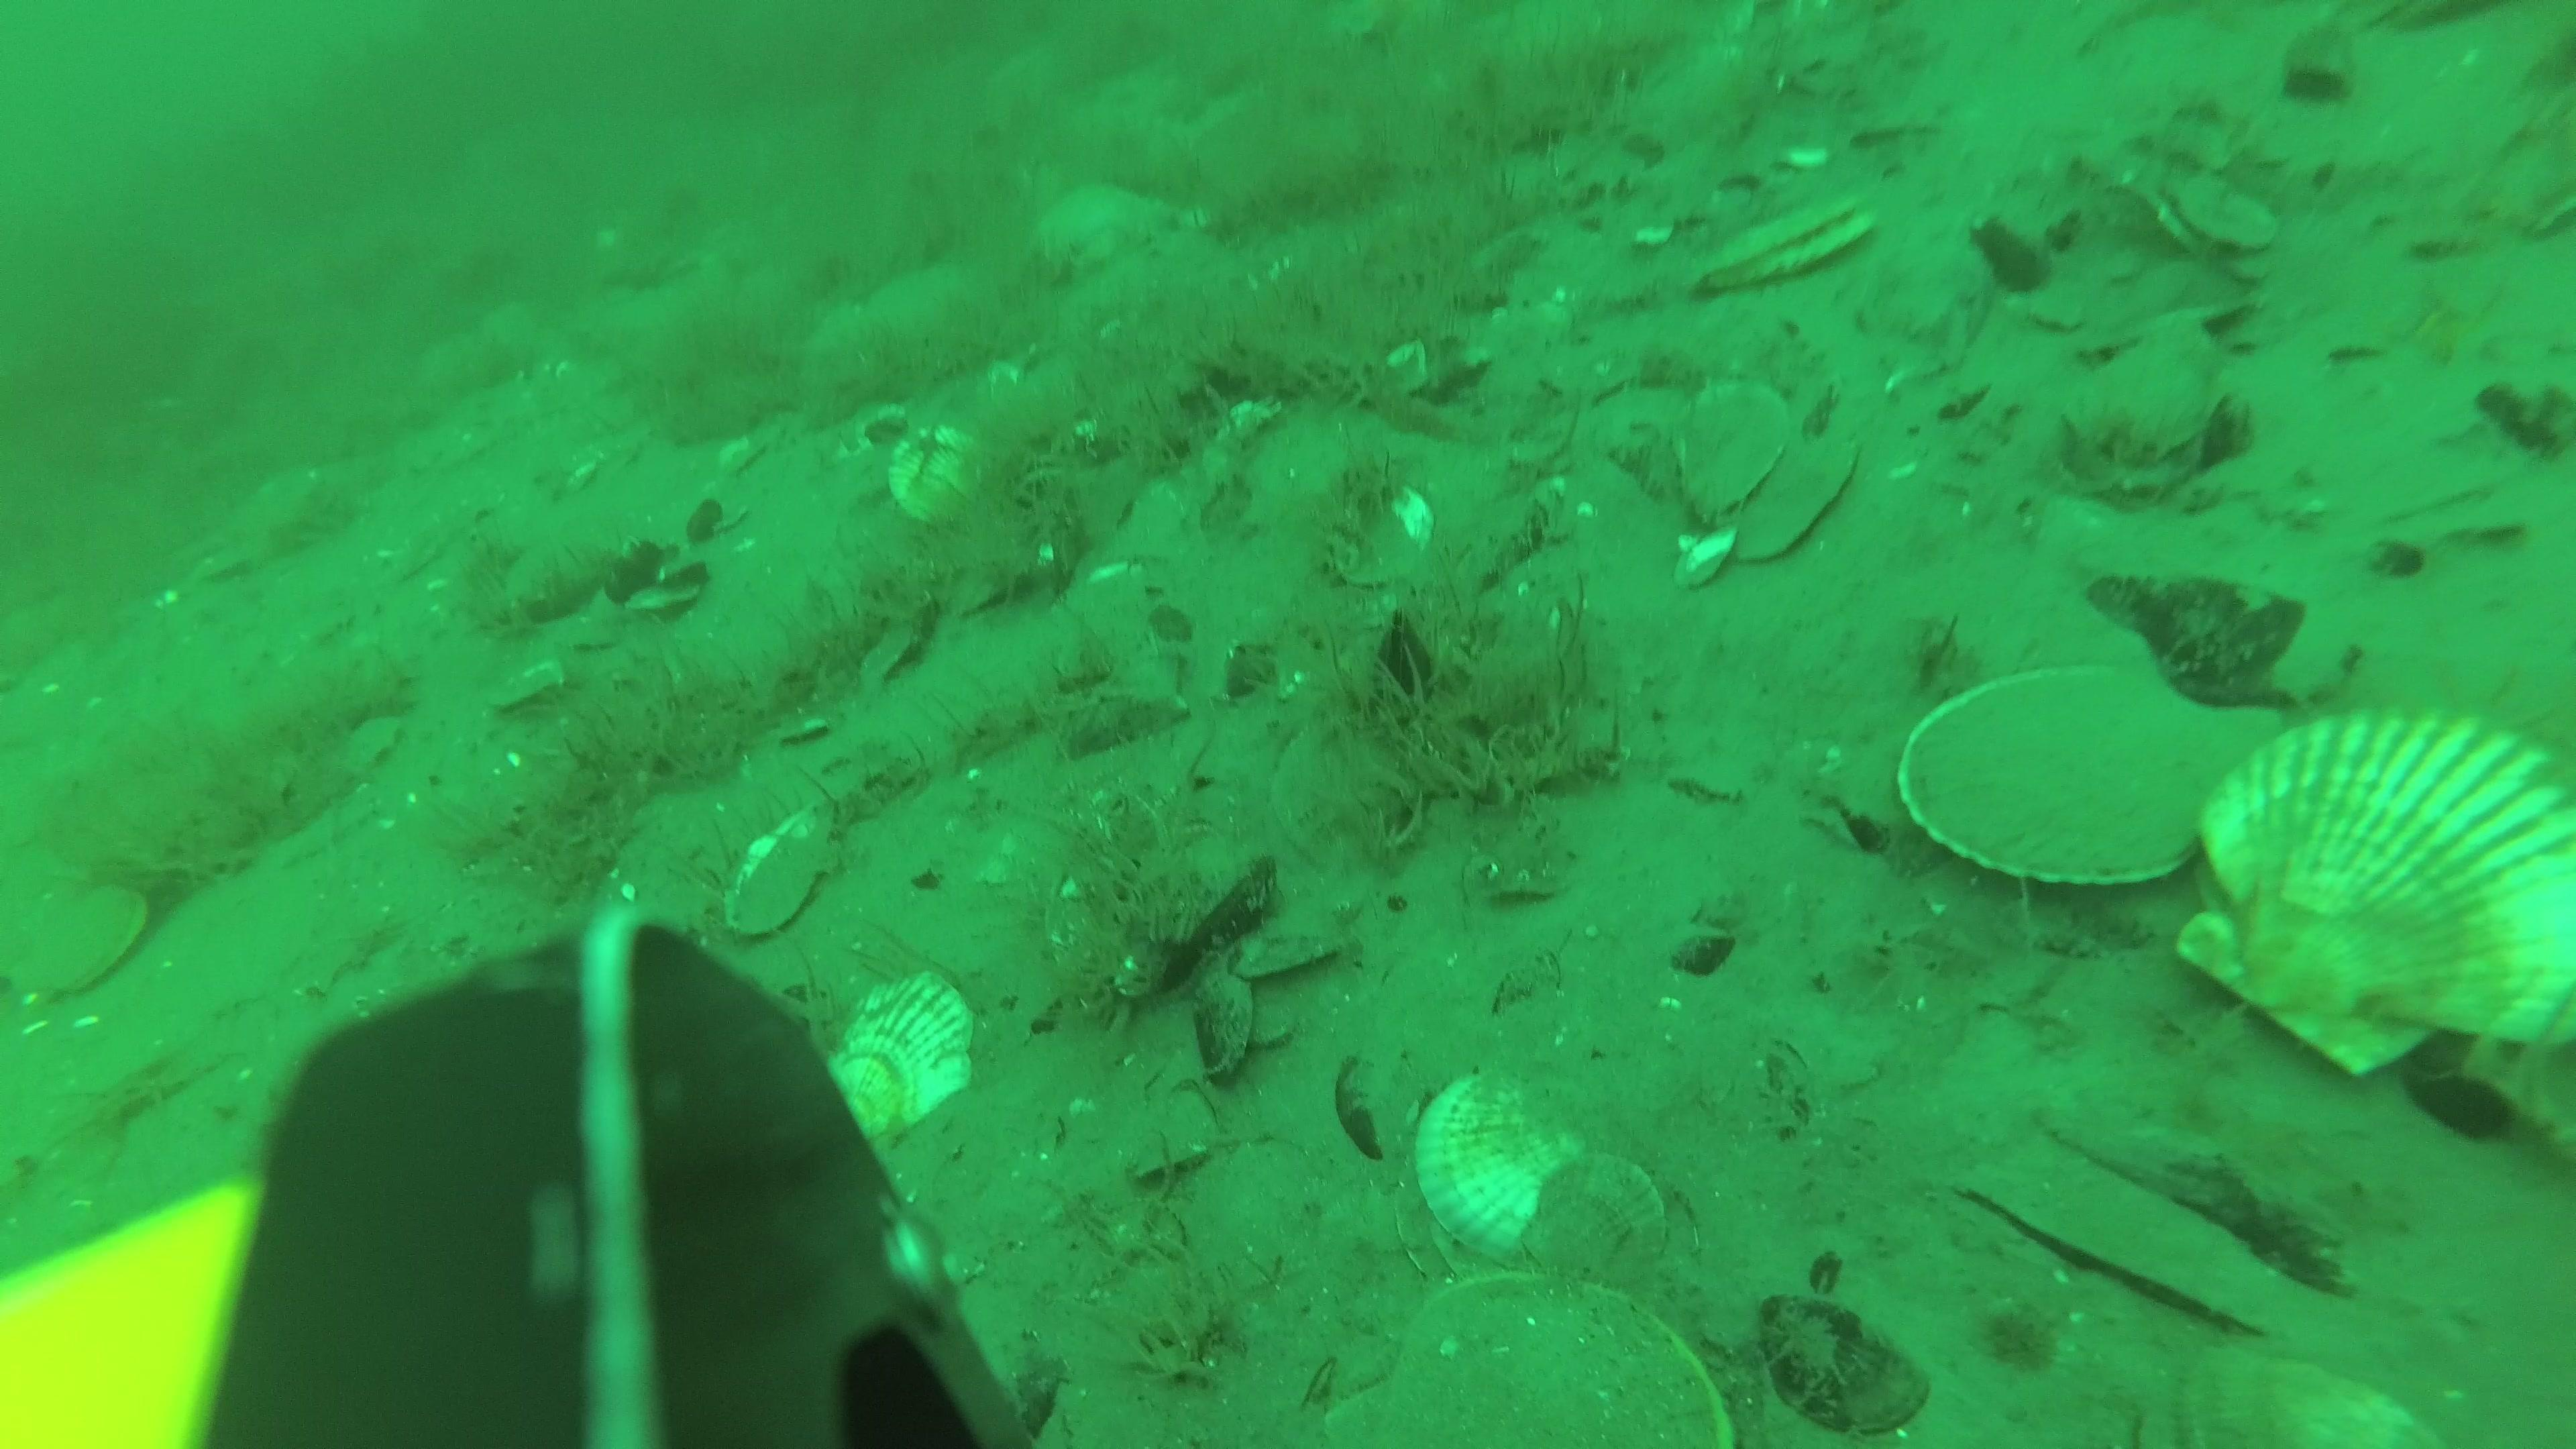scallop: (2171, 706, 2576, 1067), (1884, 671, 2277, 888), (1373, 1288, 1725, 1449), (2118, 1339, 2449, 1449), (1415, 1069, 1589, 1254), (823, 970, 962, 1139), (1688, 191, 1882, 288), (1730, 433, 1863, 564), (1522, 1161, 1670, 1277), (1674, 375, 1782, 515), (731, 809, 847, 931), (39, 876, 140, 998), (890, 428, 985, 531)
starfish: (1037, 184, 1185, 271)
